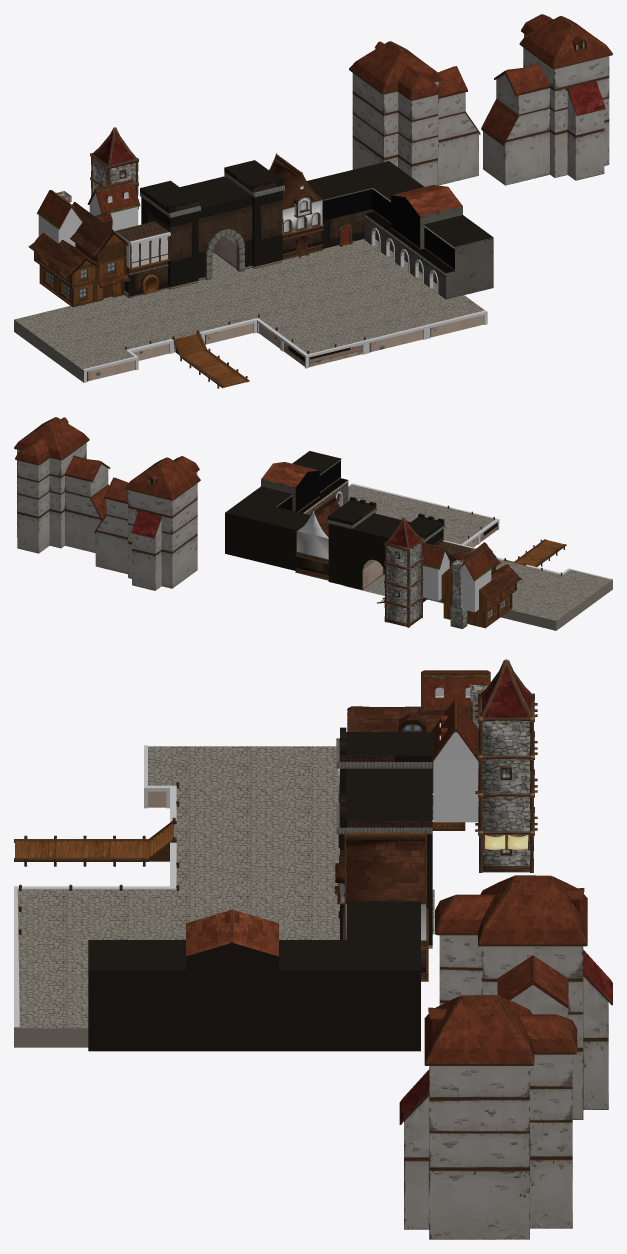
The model's file is dock 1.fbx.
3 renders of one model, top to bottom at view 1: azimuth 30°, elevation 25°; view 2: azimuth 150°, elevation 25°; view 3: azimuth 270°, elevation 25°, orthographic. The views are drawn at different scales.
Parts seen in each view (by area): view 1: Cube; view 2: Cube; view 3: Cube.
Boxes of the visible parts, x1,y1,x2,y2 form: Cube: (14, 14, 612, 388); Cube: (14, 417, 612, 630); Cube: (14, 659, 612, 1239).
Size of the model in its own units: 11887 by 2652 by 6270.
